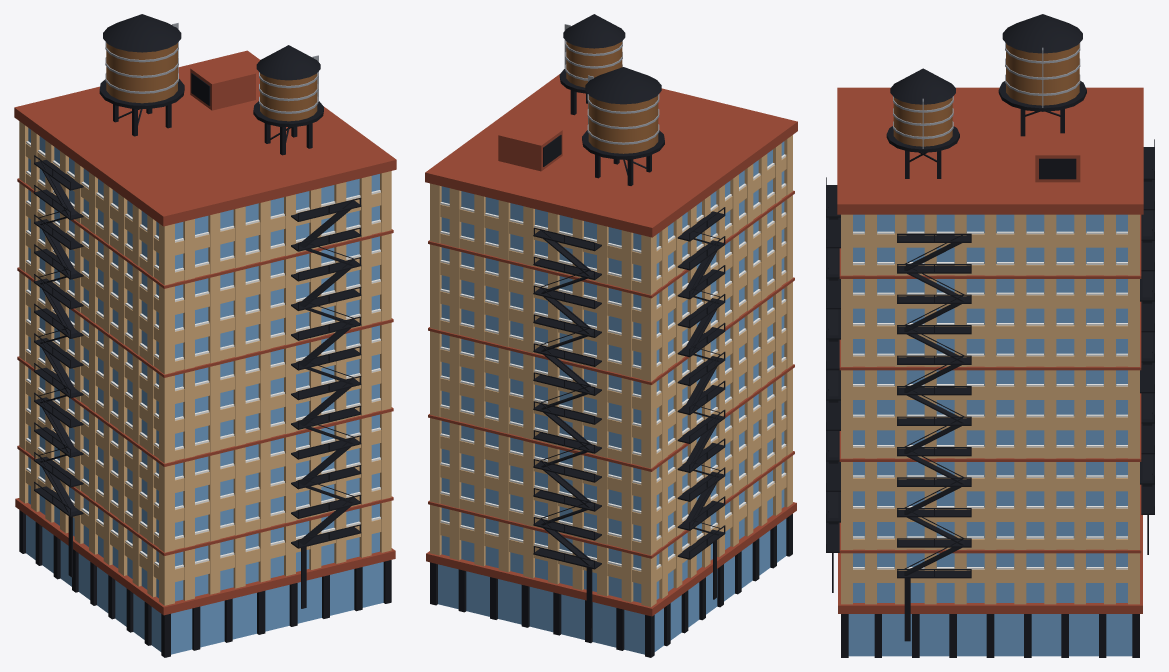
Rendered from Skyline_Tank.fbx.
3 views of the same model, side by side, from view 1: azimuth 30°, elevation 25°; view 2: azimuth 150°, elevation 25°; view 3: azimuth 270°, elevation 25° (orthographic). The views are drawn at different scales.
Visible parts, largest first — view 1: Sand, Brick.001, Window.004, Dark.004, White.003, Wood, Metal.004; view 2: Sand, Window.004, Brick.001, Dark.004, White.003, Wood, Metal.004; view 3: Sand, Window.004, Brick.001, Dark.004, White.003, Wood, Metal.004.
Part boxes in pixels (x1,y1,x2,y2): Sand: (19, 121, 391, 605); Brick.001: (14, 50, 396, 615); Window.004: (26, 128, 383, 654); Dark.004: (19, 14, 391, 657); White.003: (26, 141, 380, 569); Wood: (106, 43, 317, 121); Metal.004: (105, 23, 318, 113); Sand: (430, 135, 792, 606); Window.004: (438, 141, 786, 654); Brick.001: (425, 73, 797, 616); Dark.004: (430, 14, 792, 657); White.003: (440, 154, 786, 571); Wood: (566, 41, 658, 153); Metal.004: (564, 24, 659, 144); Sand: (841, 214, 1139, 604); Window.004: (848, 214, 1132, 656); Brick.001: (837, 87, 1143, 613); Dark.004: (826, 14, 1154, 657); White.003: (853, 231, 1127, 569); Wood: (893, 43, 1079, 146); Metal.004: (893, 42, 1080, 148).
Bounding box in the file's own units: 40 × 83.9 × 44.
